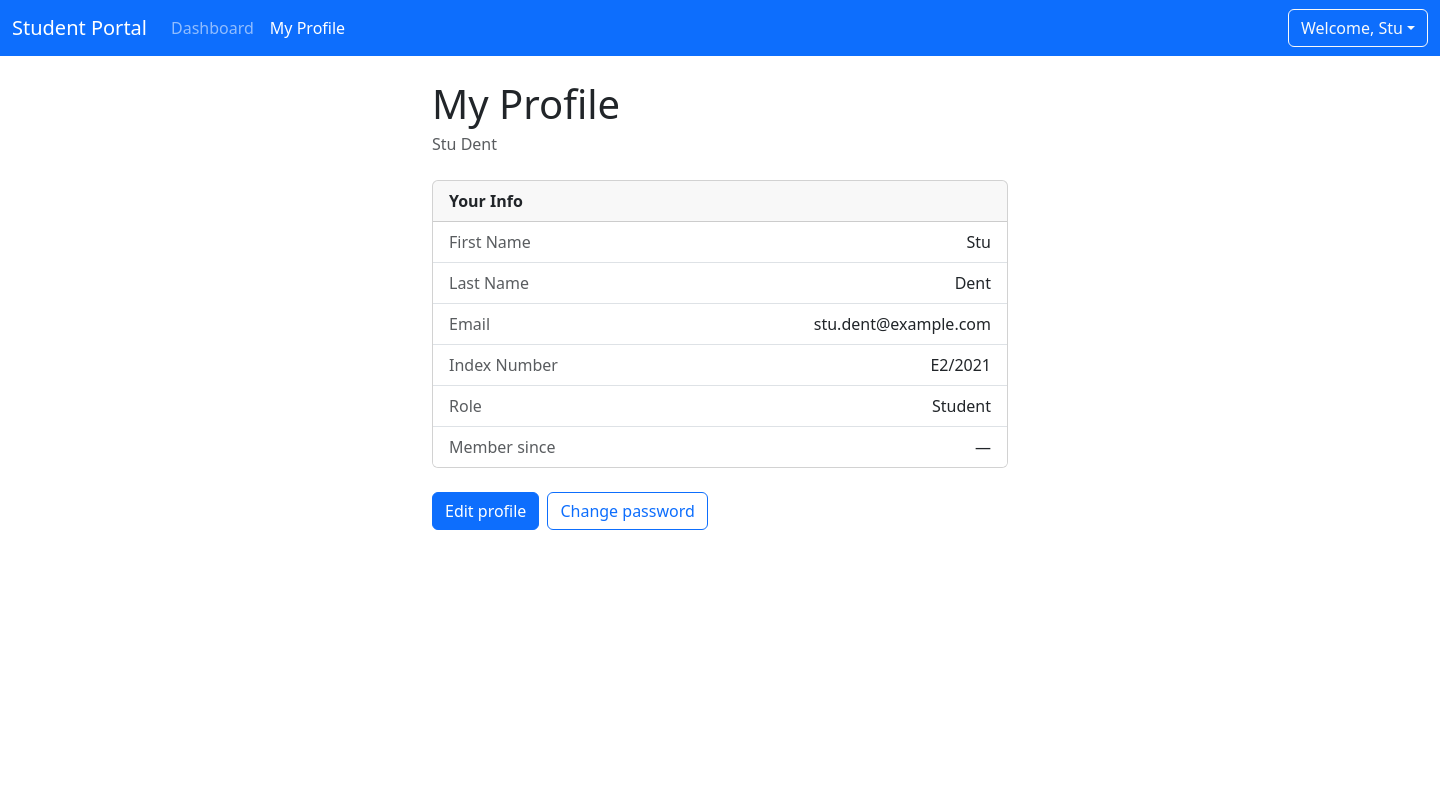
it: MyProfilePage (§5.9) › when the Edit profile button is clicked then the Edit Profile modal opens with scope=self (no Email input for Student)
Step 1. Click the button "Edit profile" → (486, 511), box [432,492,539,530]
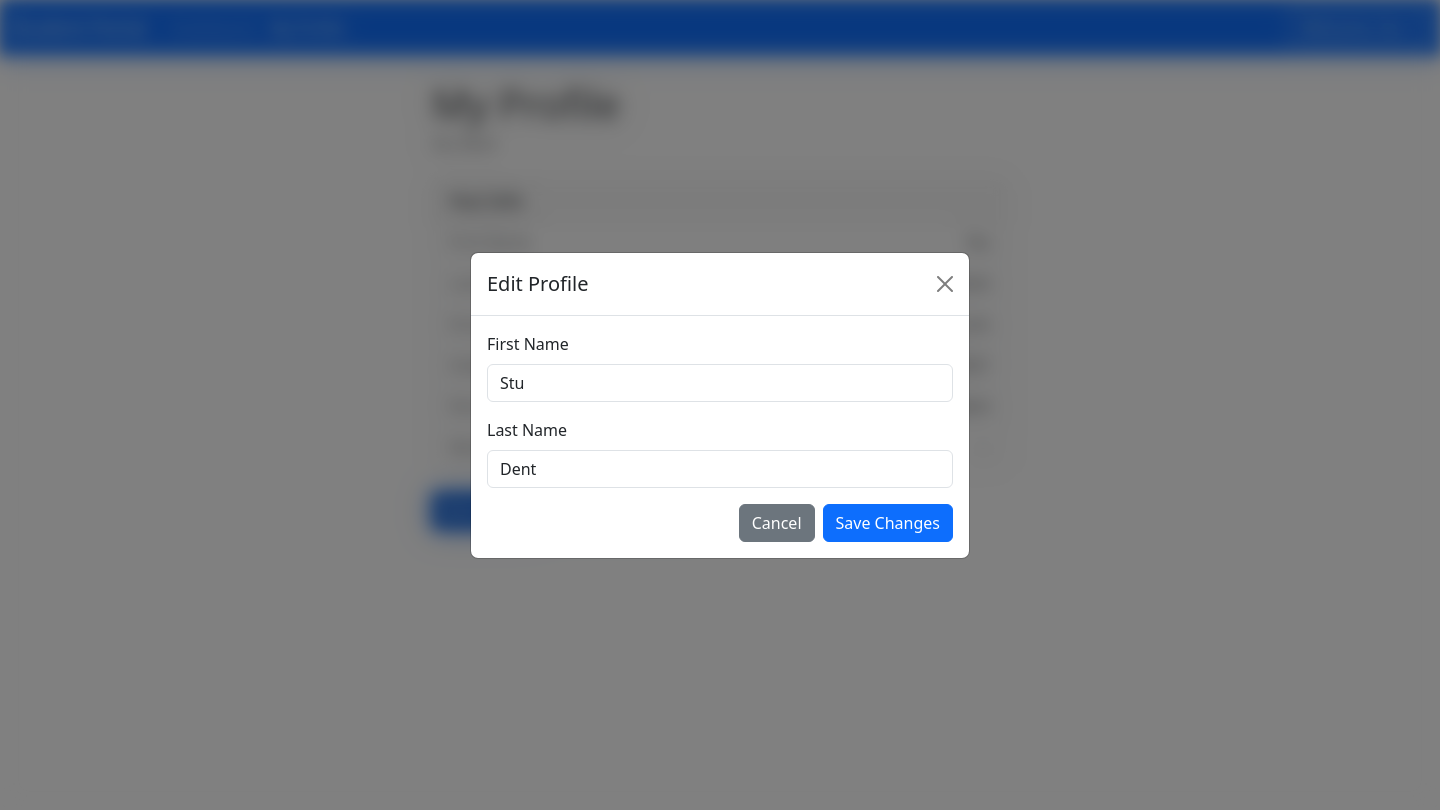
expect the dialog is shown: met, box [470,252,970,558]
expect the field labelled "First Name" is shown: met, box [487,364,953,402]
